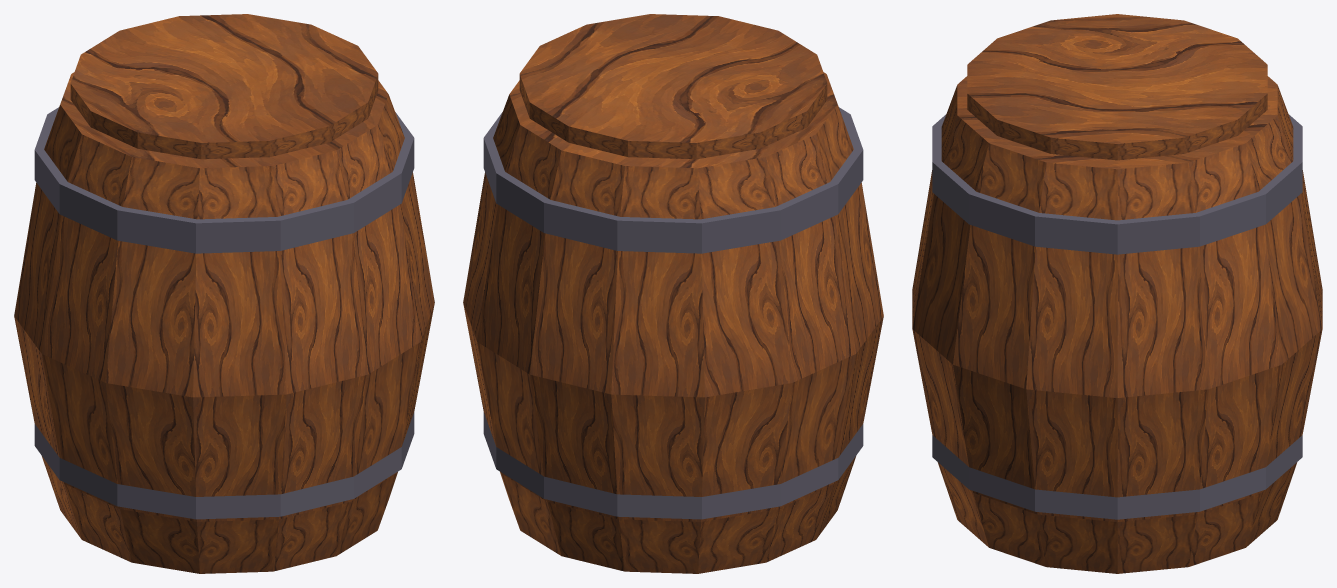
File: barrel.glb
The picture shows the model from 3 angles, left to right: view 1: azimuth 30°, elevation 25°; view 2: azimuth 150°, elevation 25°; view 3: azimuth 270°, elevation 25°; orthographic projection.
Parts seen in each view (by area): view 1: Bulged carved staves, Wood lid, Iron hoop.001, Iron hoop; view 2: Bulged carved staves, Wood lid, Iron hoop.001, Iron hoop; view 3: Bulged carved staves, Wood lid, Iron hoop.001, Iron hoop.
Part boxes in pixels (x1=…): Bulged carved staves: x1=14, y1=72, x2=434, y2=573; Wood lid: x1=70, y1=14, x2=378, y2=159; Iron hoop.001: x1=34, y1=107, x2=414, y2=253; Iron hoop: x1=34, y1=412, x2=414, y2=519; Bulged carved staves: x1=463, y1=72, x2=883, y2=573; Wood lid: x1=519, y1=14, x2=827, y2=159; Iron hoop.001: x1=483, y1=107, x2=863, y2=253; Iron hoop: x1=483, y1=412, x2=863, y2=519; Bulged carved staves: x1=912, y1=76, x2=1322, y2=573; Wood lid: x1=967, y1=14, x2=1267, y2=160; Iron hoop.001: x1=932, y1=114, x2=1302, y2=254; Iron hoop: x1=932, y1=435, x2=1302, y2=519.
Size of the model in its own units: 0.82 by 0.915 by 0.7994.
Materials: 2 (1 with a texture image).
